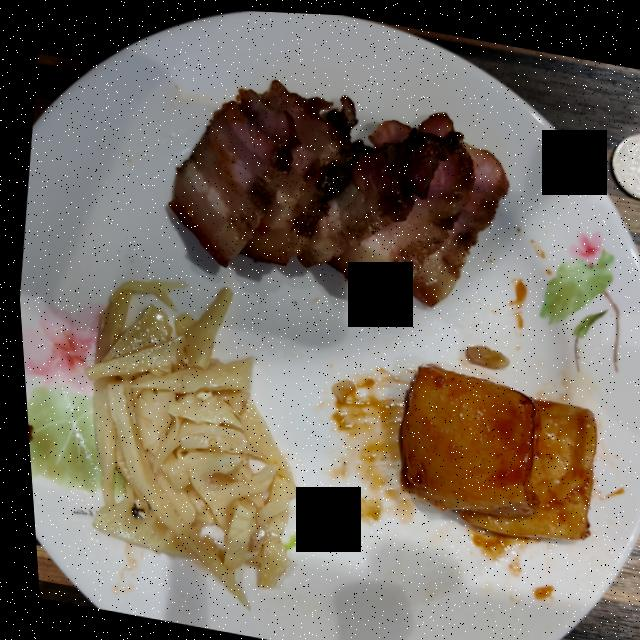coin: (610, 128, 640, 193)
creamy tofu: (395, 361, 591, 535)
red grilled pork: (169, 79, 506, 301)
